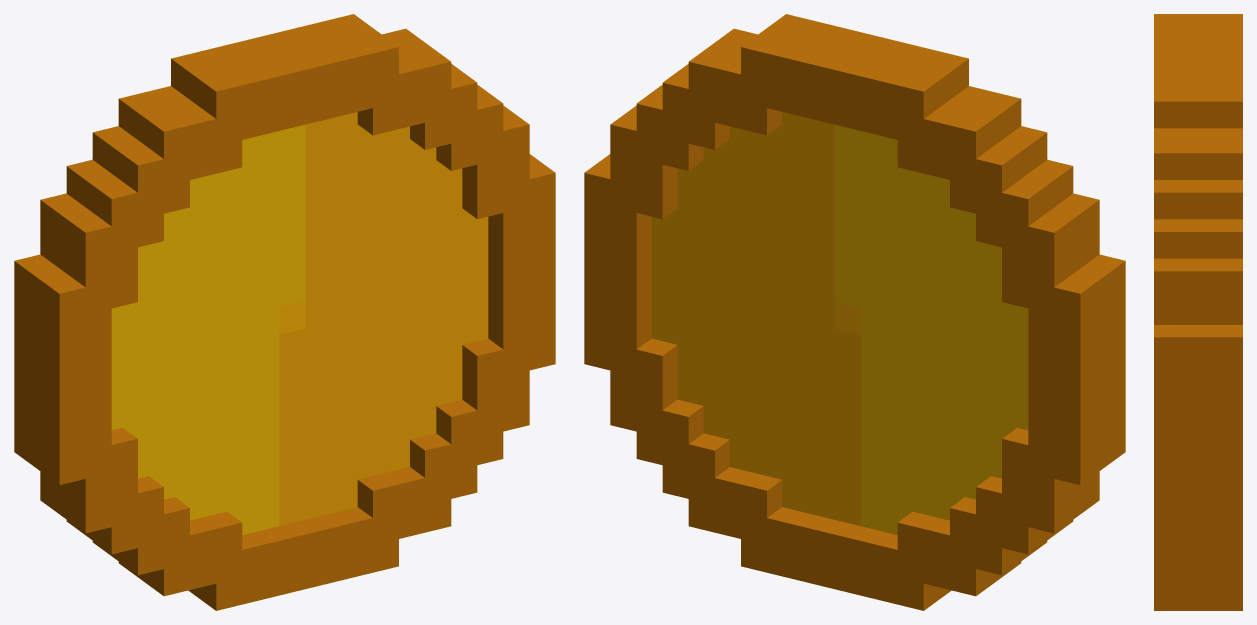
Rendered from chisla chas-1.obj.
3 renders of one model, left to right at view 1: azimuth 30°, elevation 25°; view 2: azimuth 150°, elevation 25°; view 3: azimuth 270°, elevation 25°, orthographic.
Bounding box in the file's own units: 1.9 × 1.9 × 0.3.
Materials: 1 (1 with a texture image).
